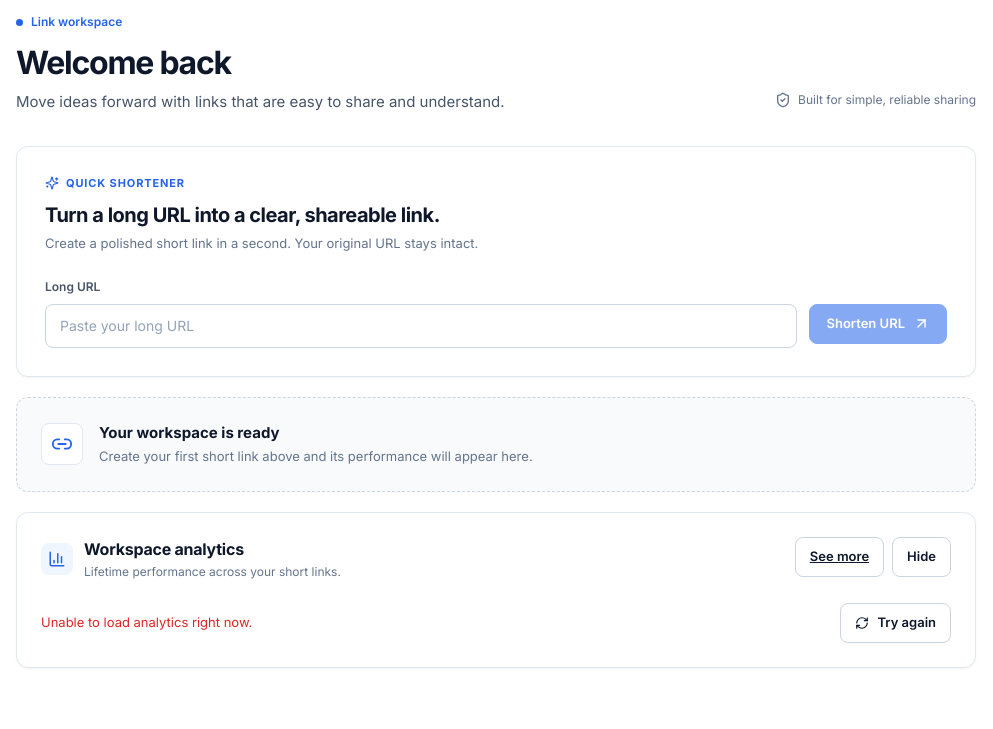
Test: DashboardPage › shows a friendly API error
Type "https://example.com" into the field labelled "Long URL" at (421, 326), box [45, 304, 798, 348]
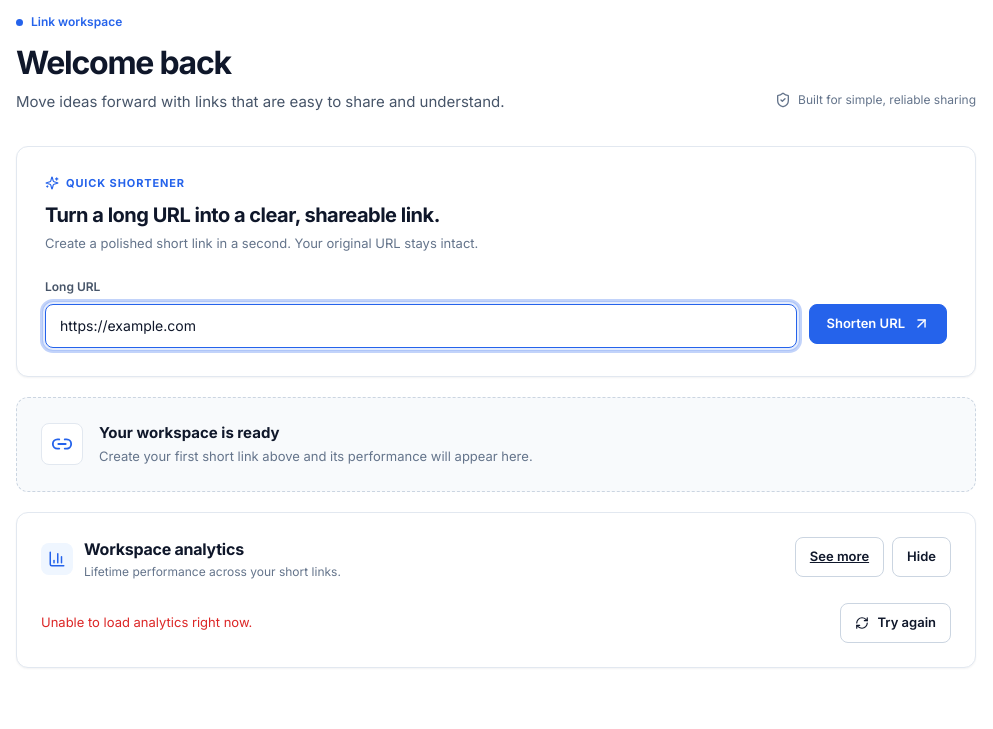
Click the button "Shorten URL" at (878, 324), box [810, 304, 947, 344]
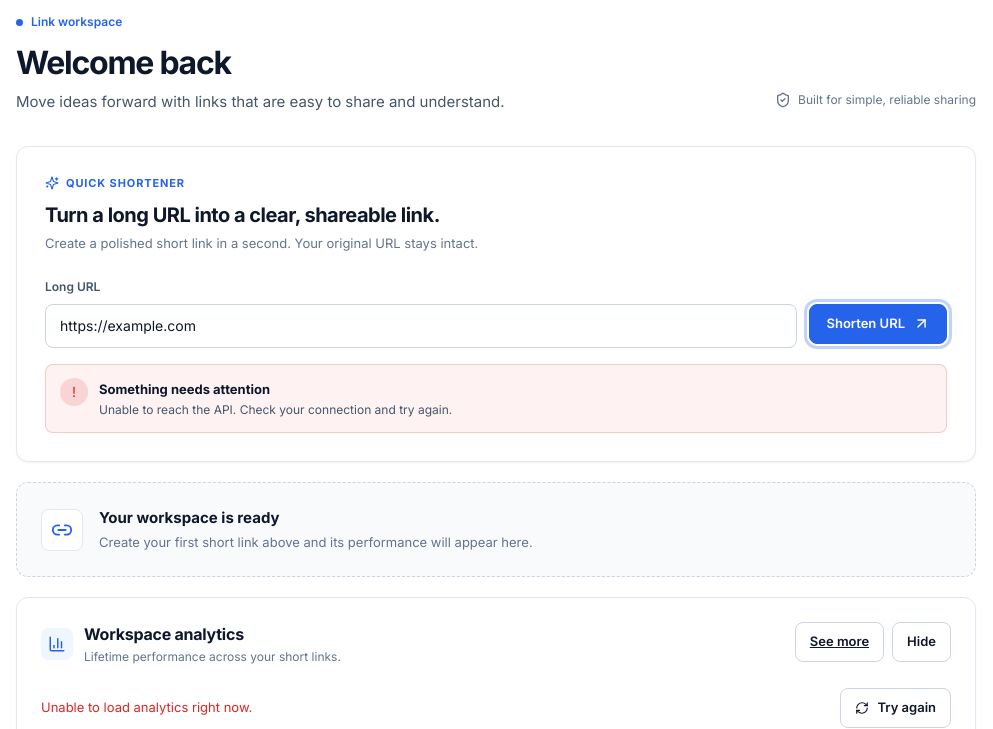
expect the text "Unable to reach the API" is shown: met, box [99, 402, 452, 417]
